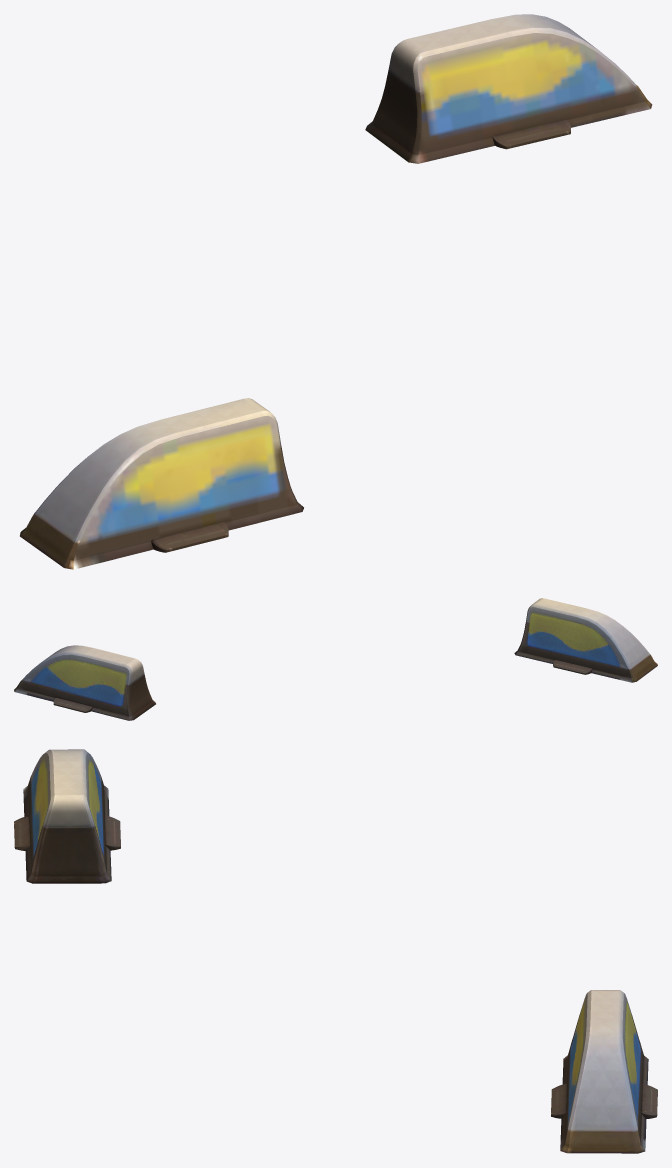
The model's file is pref_sm_4v4beachtech_bk_topblock_t01a_lv2.fbx.
The picture shows the model from 3 angles, top to bottom: view 1: azimuth 30°, elevation 25°; view 2: azimuth 150°, elevation 25°; view 3: azimuth 270°, elevation 25°; orthographic projection. The views are drawn at different scales.
Parts seen in each view (by area): view 1: pref_sm_4v4beachtech_bk_topblock_t01a_lv2; view 2: pref_sm_4v4beachtech_bk_topblock_t01a_lv2; view 3: pref_sm_4v4beachtech_bk_topblock_t01a_lv2.
Part boxes in pixels (x1,y1,x2,y2): pref_sm_4v4beachtech_bk_topblock_t01a_lv2: (20, 14, 652, 569); pref_sm_4v4beachtech_bk_topblock_t01a_lv2: (14, 598, 657, 720); pref_sm_4v4beachtech_bk_topblock_t01a_lv2: (14, 749, 657, 1153).
Bounding box in the file's own units: 15.67 × 1.53 × 11.62.
1 material, 1 textured.
